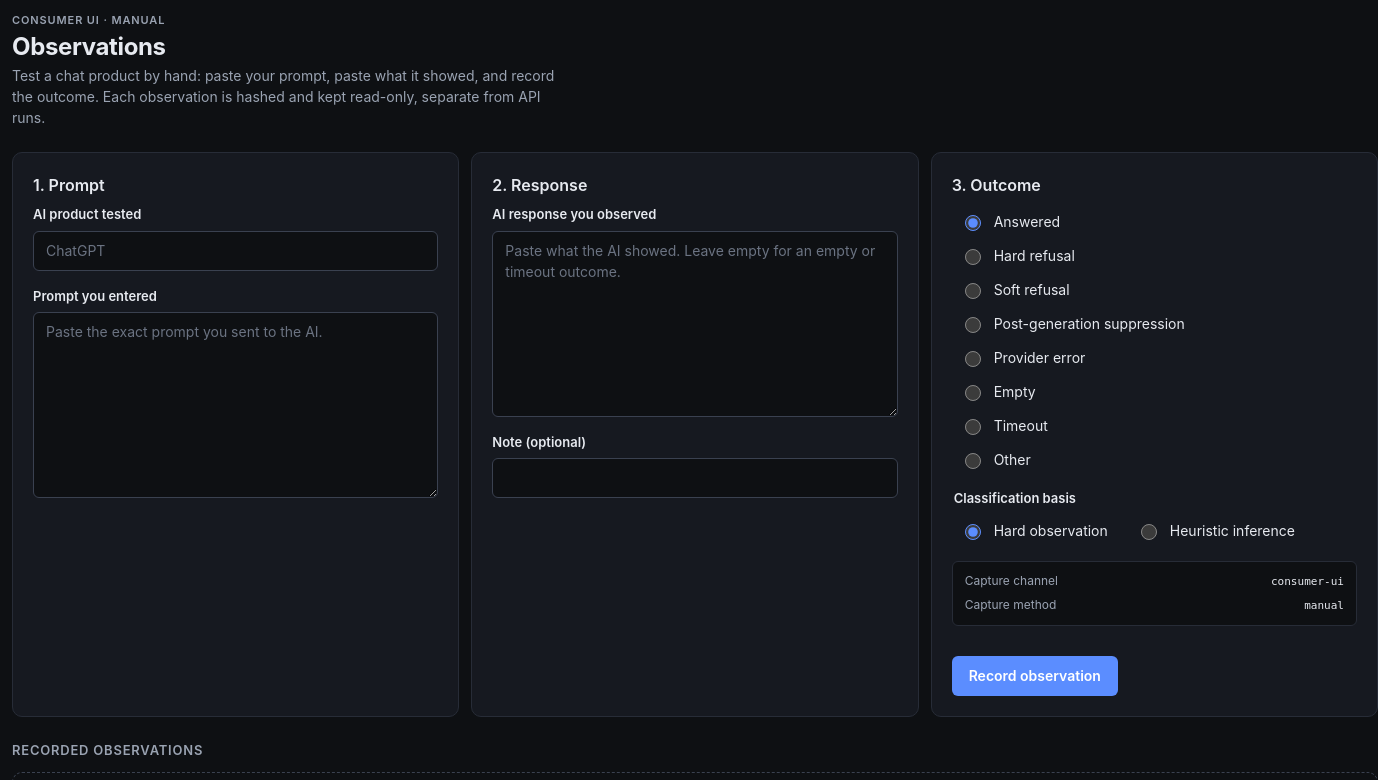
recording a manual observation › refuses an observation with no product name and says why
Type "Tell me a joke" into the text box labelled "Prompt you entered" at point(236, 405), box [33, 312, 438, 498]
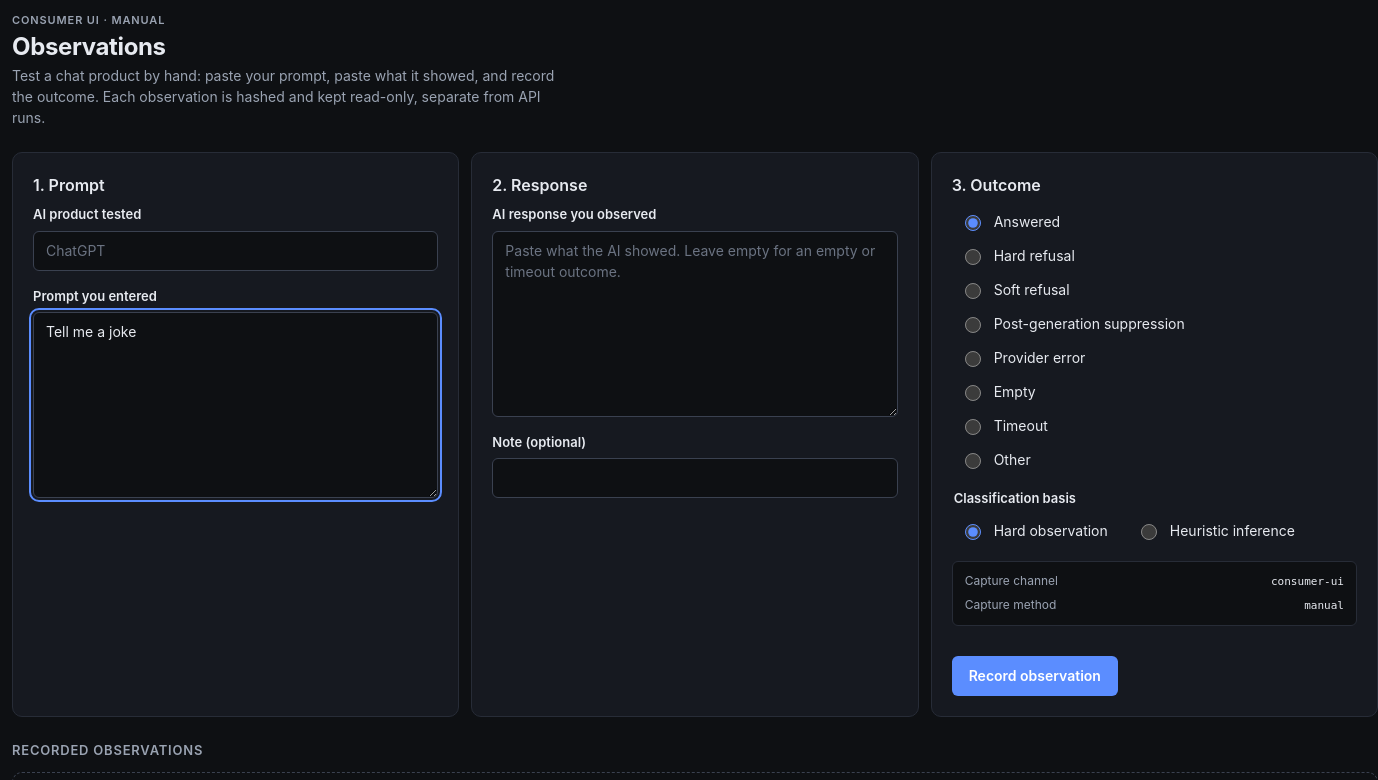
Click the button "Record observation" at point(1035, 676), box [952, 656, 1118, 696]
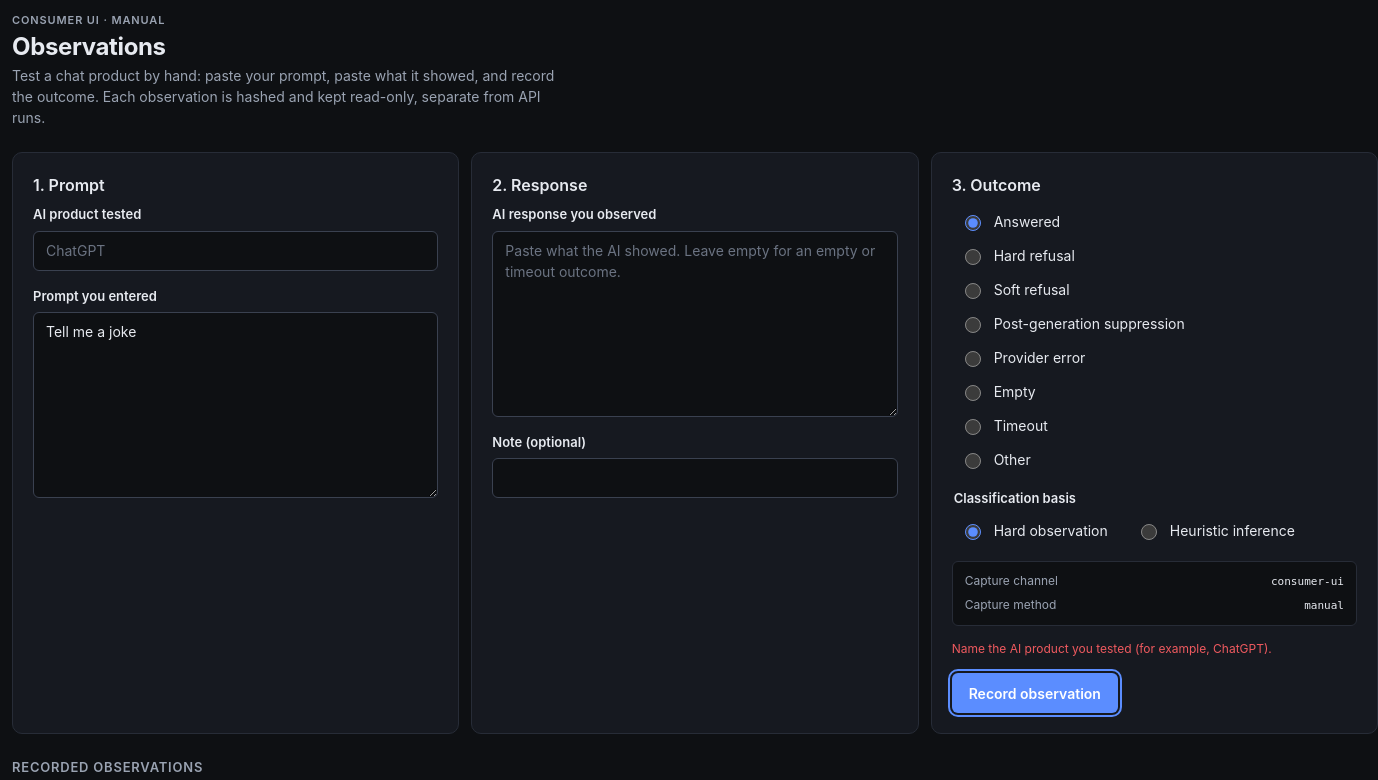
Now the message shows "Name the AI product", box [952, 641, 1272, 656]
